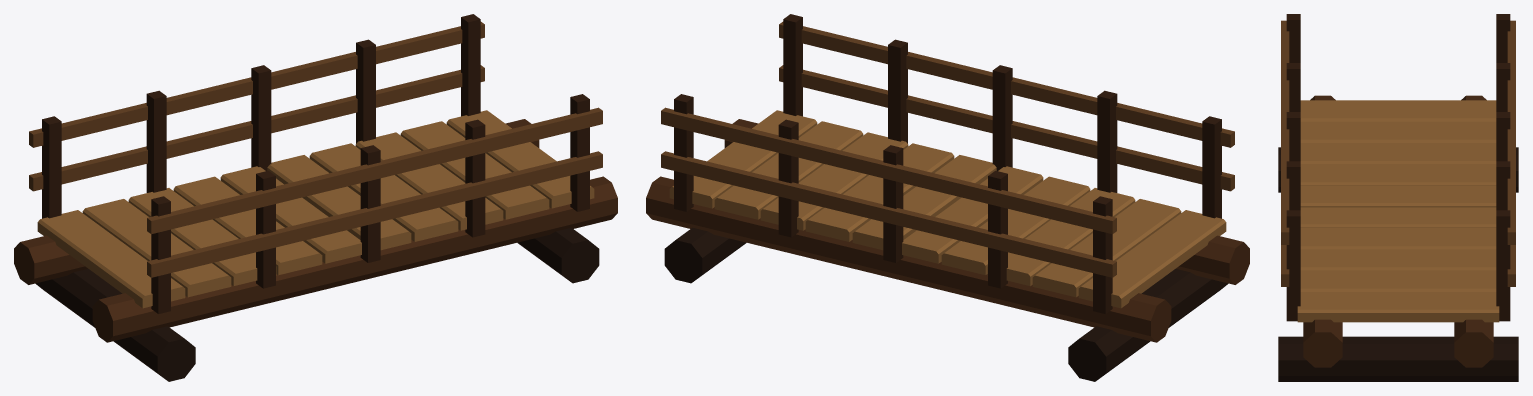
The model's file is log-plank-bridge-a5f74f.fbx.
3 renders of one model, left to right at view 1: azimuth 30°, elevation 25°; view 2: azimuth 150°, elevation 25°; view 3: azimuth 270°, elevation 25°, orthographic. The views are drawn at different scales.
Parts seen in each view (by area): view 1: bridge; view 2: bridge; view 3: bridge.
Part boxes in pixels (x1=…): bridge: x1=14, y1=14, x2=617, y2=381; bridge: x1=646, y1=14, x2=1249, y2=381; bridge: x1=1278, y1=14, x2=1518, y2=381.
Bounding box in the file's own units: 4 × 1.33 × 1.72.
